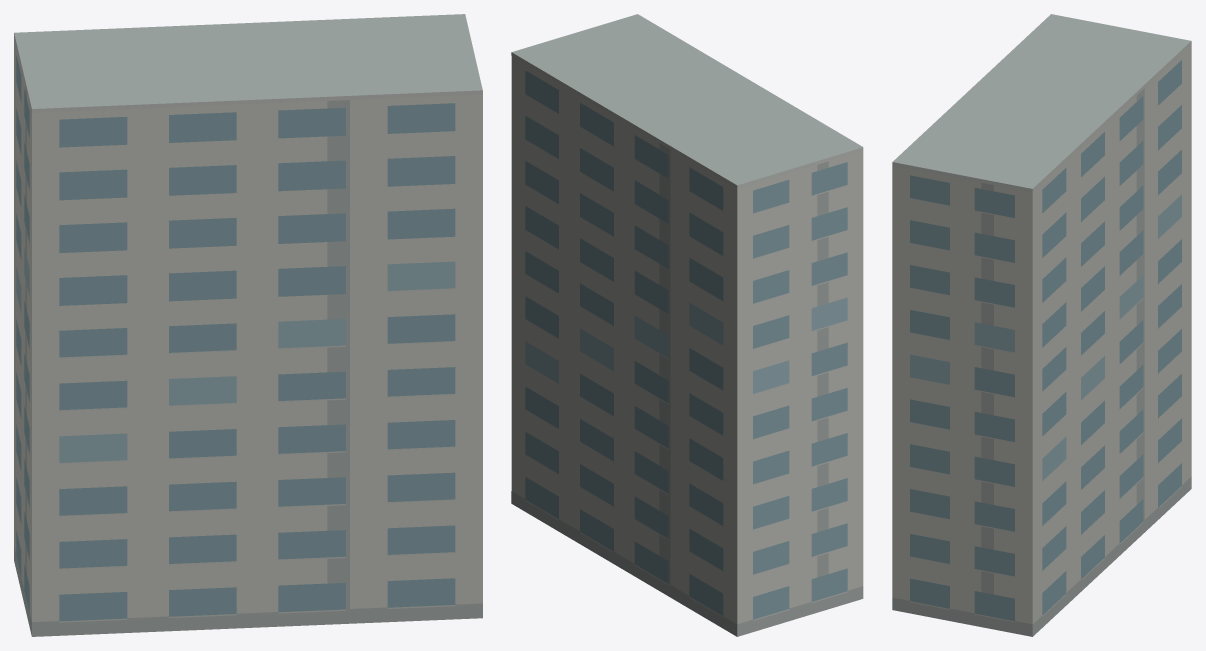
The model's file is residential-0d914a41-ba17-40b2-9195-5816655387a7.glb.
3 renders of one model, left to right at view 1: azimuth 30°, elevation 25°; view 2: azimuth 150°, elevation 25°; view 3: azimuth 270°, elevation 25°, orthographic. The views are drawn at different scales.
Parts seen in each view (by area): view 1: residential-0d914a41-ba17-40b2-9195-5816655387a7.tmp; view 2: residential-0d914a41-ba17-40b2-9195-5816655387a7.tmp; view 3: residential-0d914a41-ba17-40b2-9195-5816655387a7.tmp.
Boxes of the visible parts, x1,y1,x2,y2 form: residential-0d914a41-ba17-40b2-9195-5816655387a7.tmp: (14, 14, 482, 636); residential-0d914a41-ba17-40b2-9195-5816655387a7.tmp: (511, 14, 863, 636); residential-0d914a41-ba17-40b2-9195-5816655387a7.tmp: (892, 14, 1191, 636).
Bounding box in the file's own units: 25.55 × 30.5 × 18.47.
